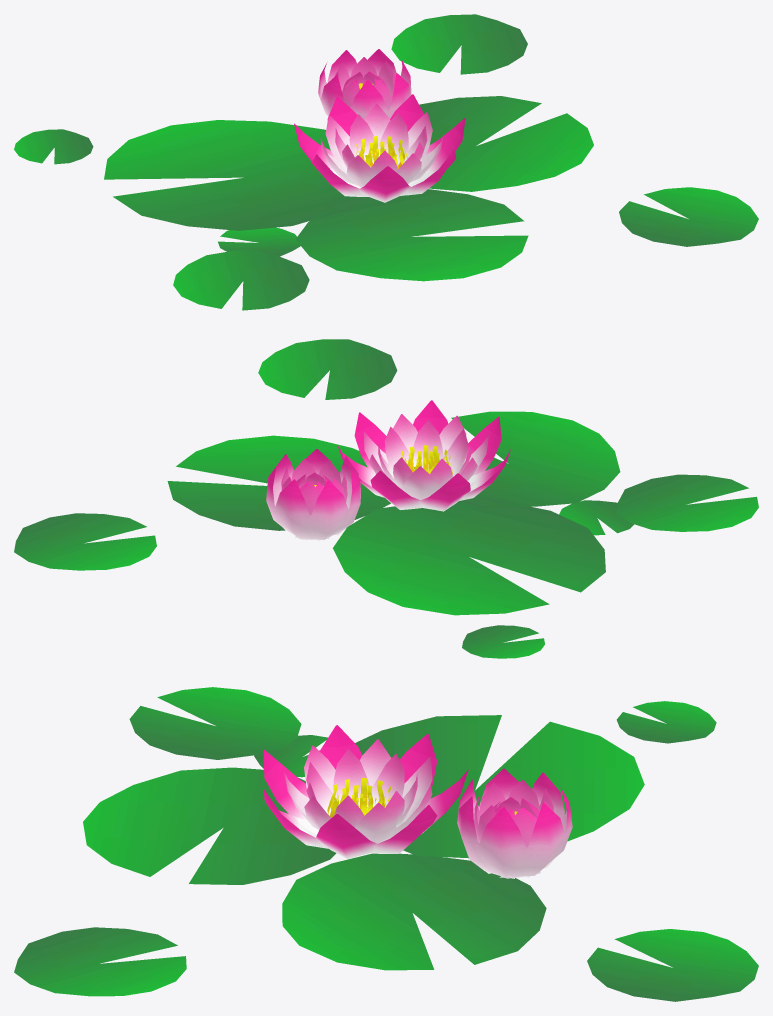
The picture shows the model from 3 angles, top to bottom: view 1: azimuth 30°, elevation 25°; view 2: azimuth 150°, elevation 25°; view 3: azimuth 270°, elevation 25°; orthographic projection. The views are drawn at different scales.
Visible parts, largest first — view 1: lillypad.001, lillypad.002, lillypad, lillypad.007, lillypad.004, lillypad.003, Petal.002, Petal.001, Petal.005, Petal, lillypad.005, lillypad.006 (+2 smaller); view 2: lillypad.001, lillypad.002, lillypad, lillypad.004, lillypad.003, lillypad.007, Petal.002, Petal.005, Petal, Petal.001, lillypad.005, lillypad.006 (+2 smaller); view 3: lillypad, lillypad.002, lillypad.001, lillypad.007, lillypad.003, lillypad.004, Petal.002, Petal.005, Petal.001, Petal, lillypad.005, Petal.004 (+3 smaller).
Boxes of the visible parts, x1,y1,x2,y2 form: lillypad.001: (104, 120, 356, 230); lillypad.002: (295, 189, 528, 281); lillypad: (419, 96, 593, 191); lillypad.007: (619, 187, 758, 246); lillypad.004: (173, 250, 309, 310); lillypad.003: (391, 14, 527, 74); Petal.002: (294, 94, 465, 202); Petal.001: (320, 103, 443, 187); Petal.005: (318, 49, 411, 119); Petal: (335, 113, 427, 174); lillypad.005: (14, 129, 93, 164); lillypad.006: (218, 227, 300, 256); lillypad.001: (333, 498, 605, 615); lillypad.002: (451, 411, 620, 507); lillypad: (167, 435, 390, 530); lillypad.004: (616, 474, 758, 531); lillypad.003: (14, 513, 156, 570); lillypad.007: (258, 339, 397, 399); Petal.002: (337, 400, 510, 511); Petal.005: (266, 449, 360, 540); Petal: (378, 420, 471, 487); Petal.001: (363, 414, 488, 499); lillypad.005: (462, 625, 544, 658); lillypad.006: (559, 500, 633, 535); lillypad: (282, 853, 546, 970); lillypad.002: (83, 767, 336, 884); lillypad.001: (355, 715, 644, 858); lillypad.007: (14, 927, 186, 996); lillypad.003: (587, 929, 758, 1001); lillypad.004: (129, 687, 301, 759); Petal.002: (263, 725, 468, 858); Petal.005: (457, 768, 572, 878); Petal.001: (283, 739, 432, 843); Petal: (306, 749, 417, 827); lillypad.005: (616, 701, 716, 743); Petal.004: (474, 780, 553, 847).
Size of the model in its own units: 939 by 117 by 940.
Materials: 1 (1 with a texture image).
